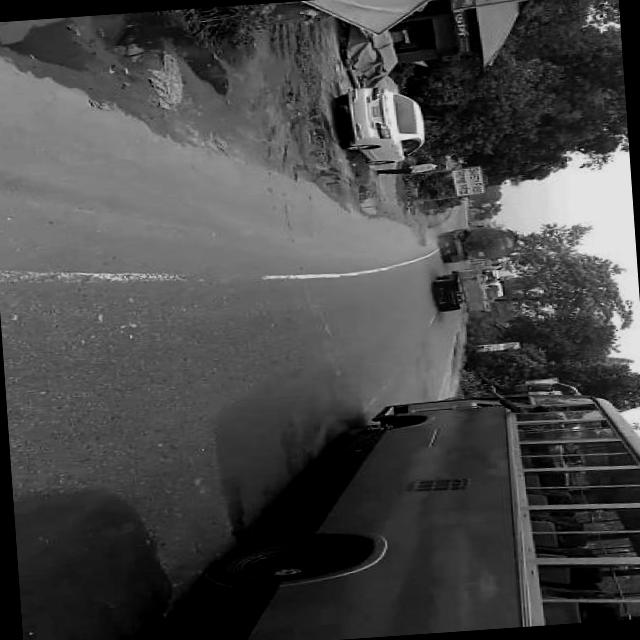bus: (158, 374, 640, 640)
car: (338, 80, 433, 166)
truck: (432, 264, 508, 314), (441, 221, 518, 264)
